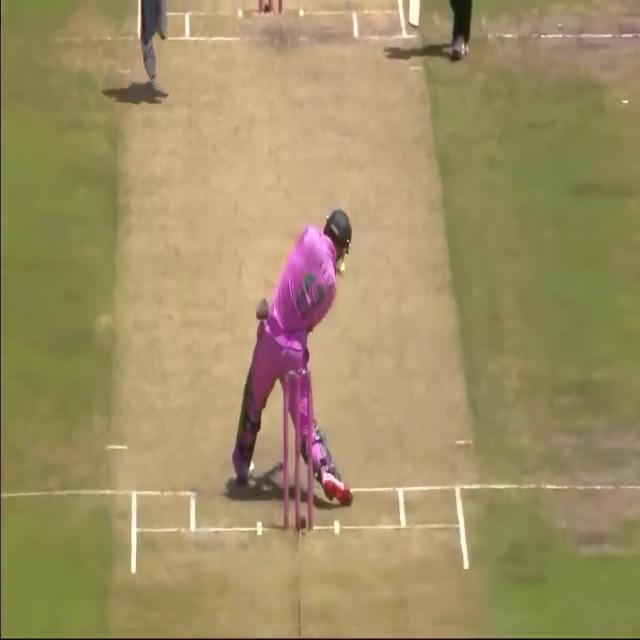Ball: (223, 172, 359, 520)
